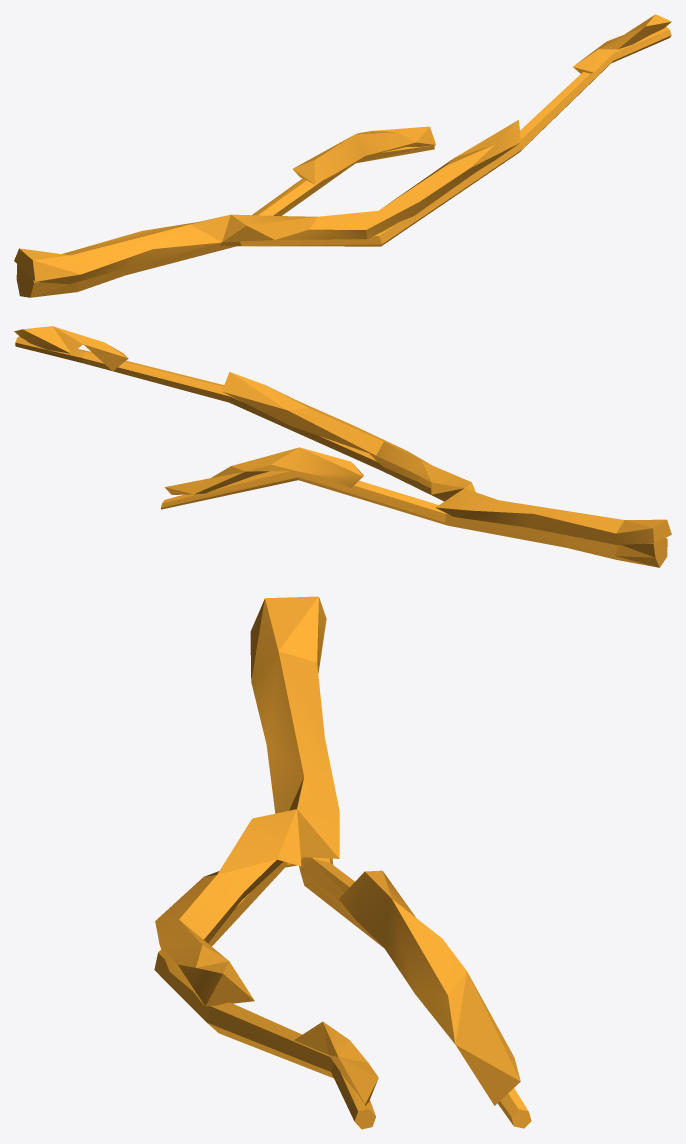
Rendered from SM_Tree_Pine_Branch_A_Snow.fbx.
The picture shows the model from 3 angles, top to bottom: view 1: azimuth 30°, elevation 25°; view 2: azimuth 150°, elevation 25°; view 3: azimuth 270°, elevation 25°; orthographic projection. The views are drawn at different scales.
Parts seen in each view (by area): view 1: tree-pine-branch-a-snow; view 2: tree-pine-branch-a-snow; view 3: tree-pine-branch-a-snow.
Boxes of the visible parts, left/top/right/bottom form: tree-pine-branch-a-snow: left=14, top=14, right=671, bottom=297; tree-pine-branch-a-snow: left=14, top=326, right=671, bottom=567; tree-pine-branch-a-snow: left=154, top=596, right=531, bottom=1129.
Size of the model in its own units: 4.08 by 0.6905 by 1.06.
